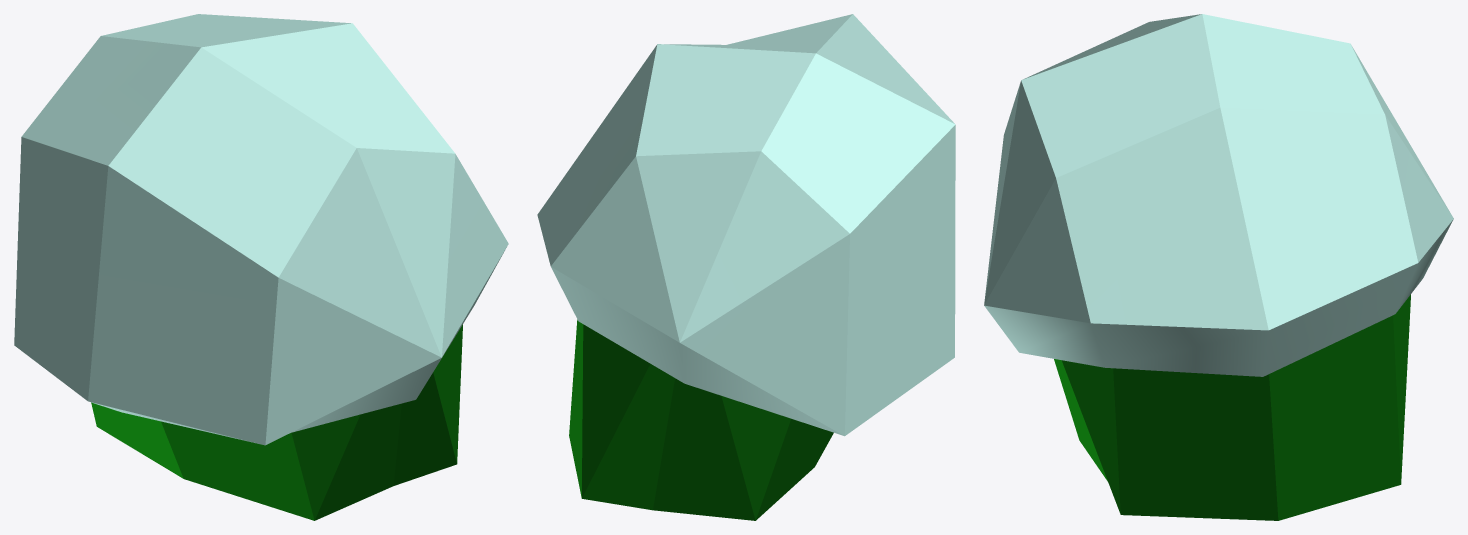
File: Bush2.FBX
3 renders of one model, left to right at view 1: azimuth 30°, elevation 25°; view 2: azimuth 150°, elevation 25°; view 3: azimuth 270°, elevation 25°, orthographic. The views are drawn at different scales.
Visible parts, largest first — view 1: Bush2_b, Bush2; view 2: Bush2_b, Bush2; view 3: Bush2_b, Bush2.
Part boxes in pixels (x1,y1,x2,y2): Bush2_b: (14,14,508,445); Bush2: (91,324,462,520); Bush2_b: (537,14,955,436); Bush2: (569,319,833,520); Bush2_b: (984,14,1453,376); Bush2: (1054,294,1410,520).
Size of the model in its own units: 2033 by 2142 by 2252.
